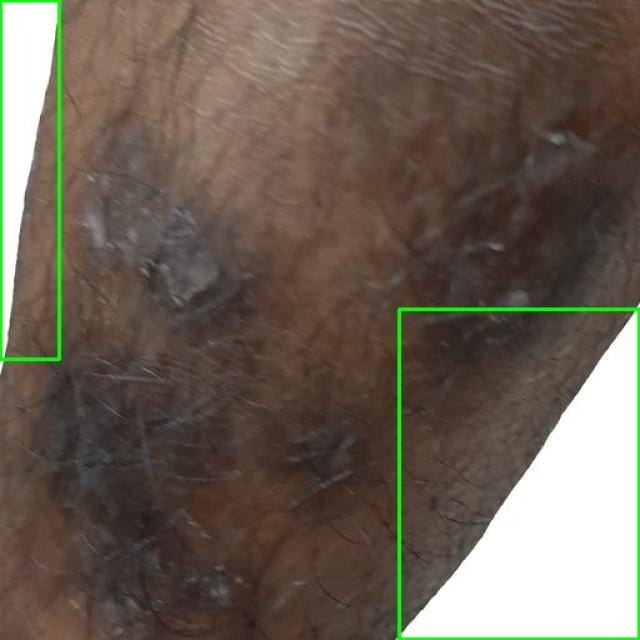Eczema: (399, 309, 639, 639), (0, 0, 59, 359)
